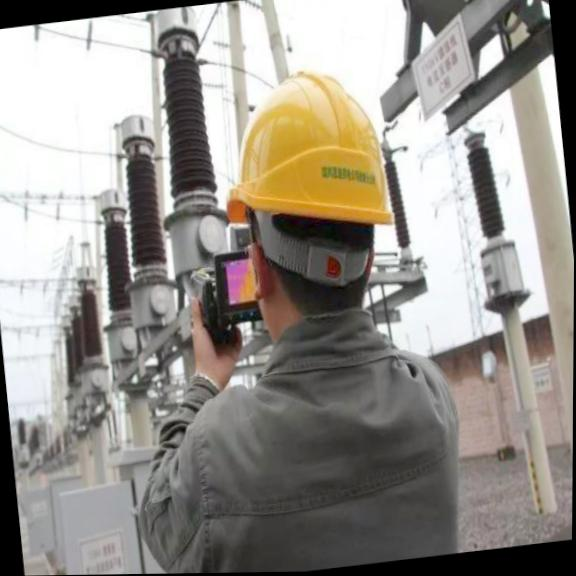no_safety_vest: (173, 317, 475, 573)
